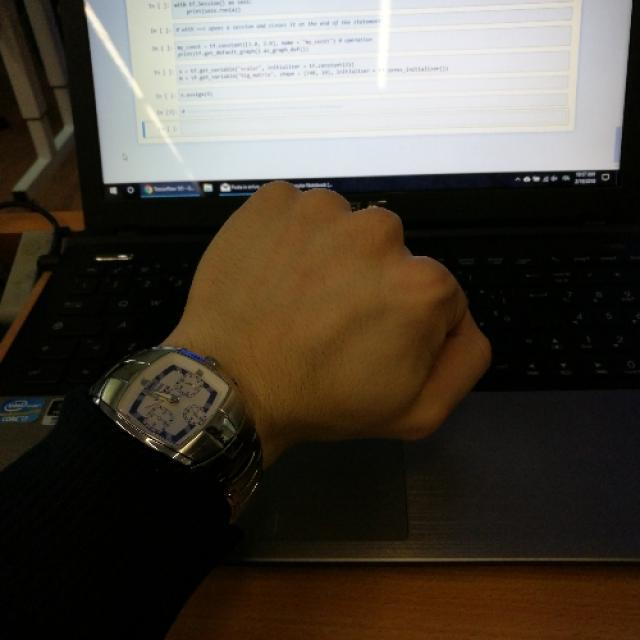fist: (181, 176, 490, 450)
